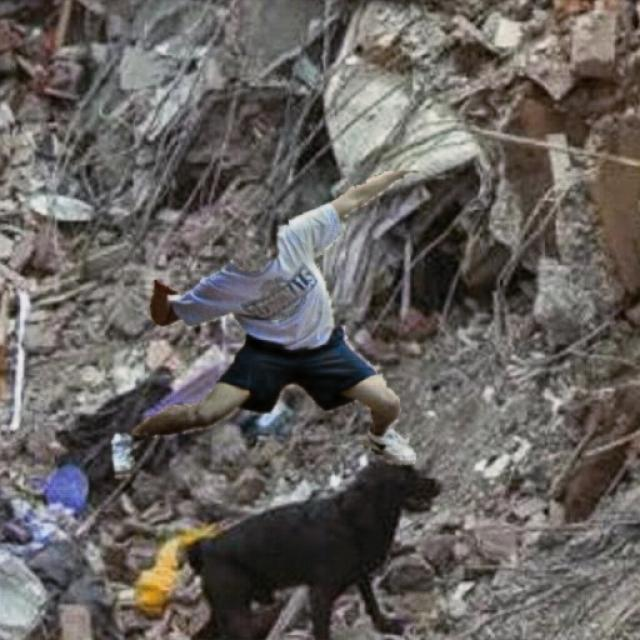Person in Rubble: (111, 172, 420, 476)
